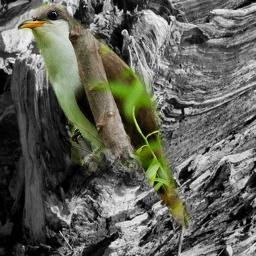Cuckoo: (11, 3, 201, 231)
